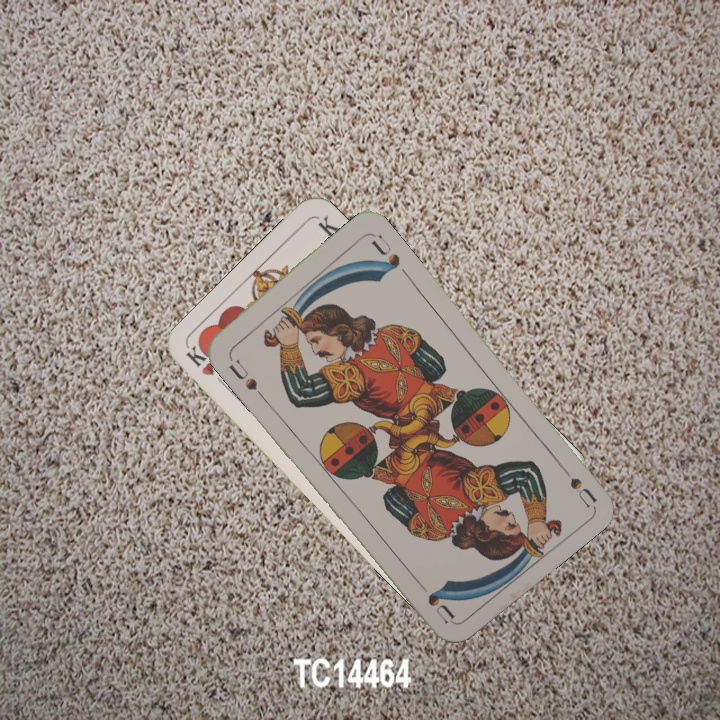HK: (182, 342, 232, 392)
SU: (553, 456, 599, 509), (224, 355, 260, 393)
